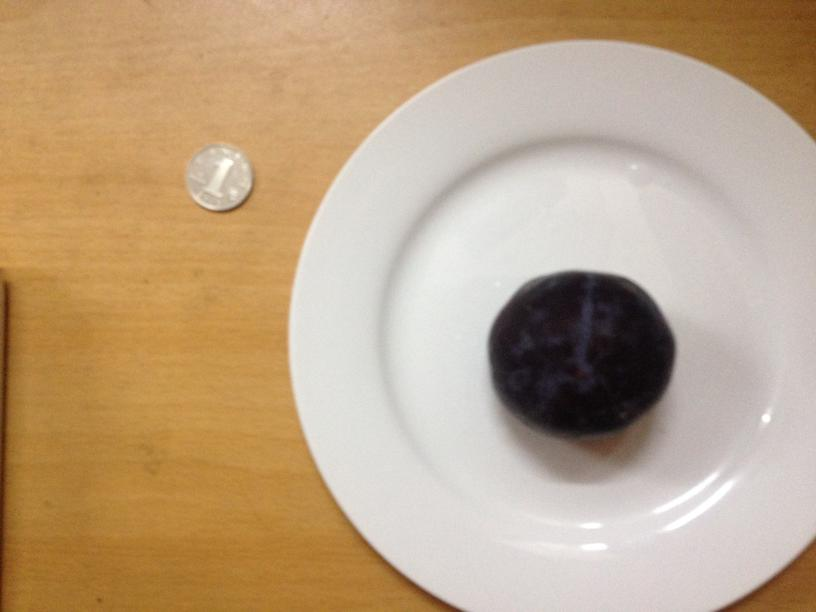coin: (181, 144, 254, 212)
plum: (477, 272, 675, 437)
